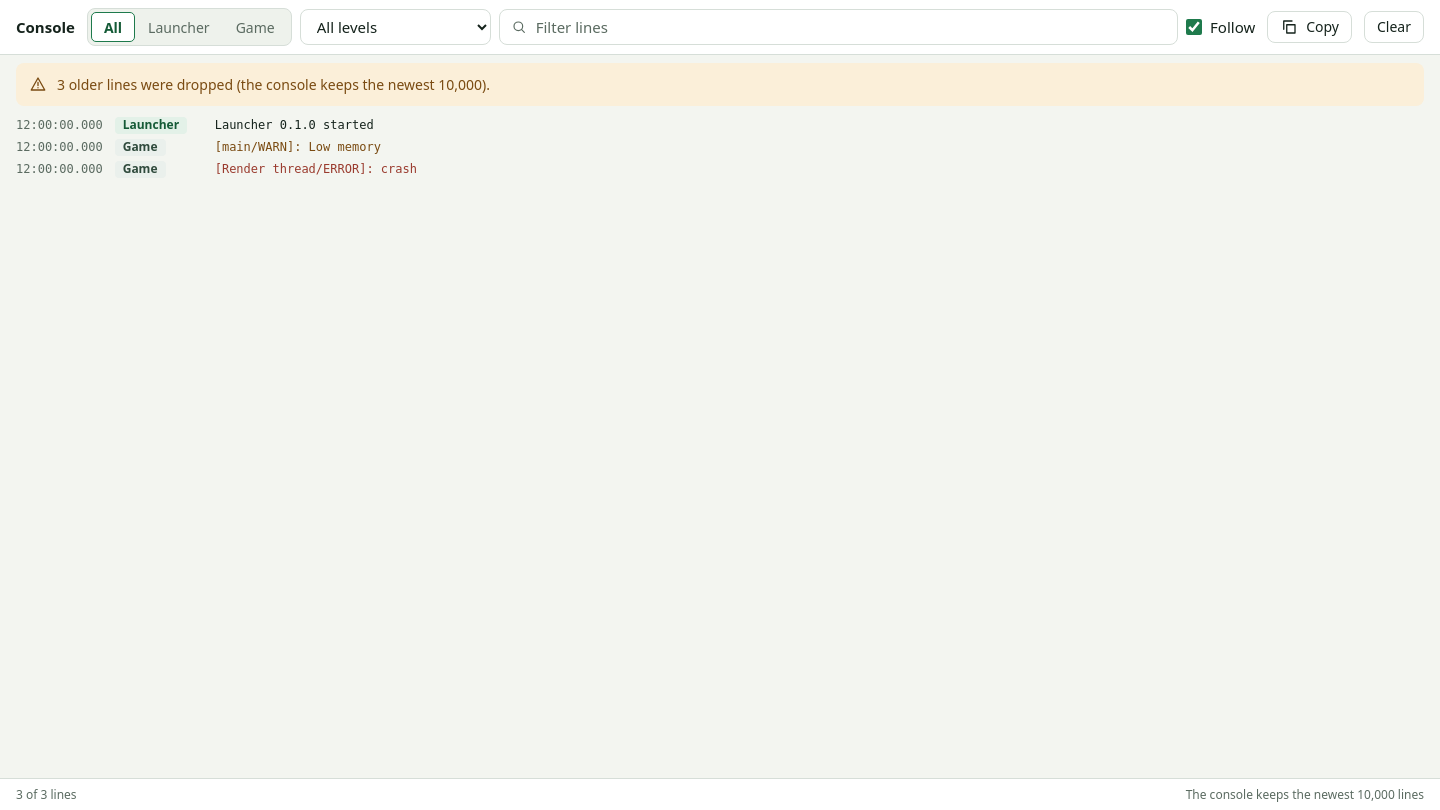
ConsoleApp › polls the journal from where it stopped and filters lines
Expected: the text "Launcher 0.1.0 started" is shown, x1=215 y1=118 x2=374 y2=132
Expected: the text "3 older lines were dropped (the console keeps the newest 10,000)." is shown, x1=57 y1=75 x2=490 y2=94
Step 1. Click the radio button labelled "Game" → (255, 27), box x1=223 y1=12 x2=288 y2=42
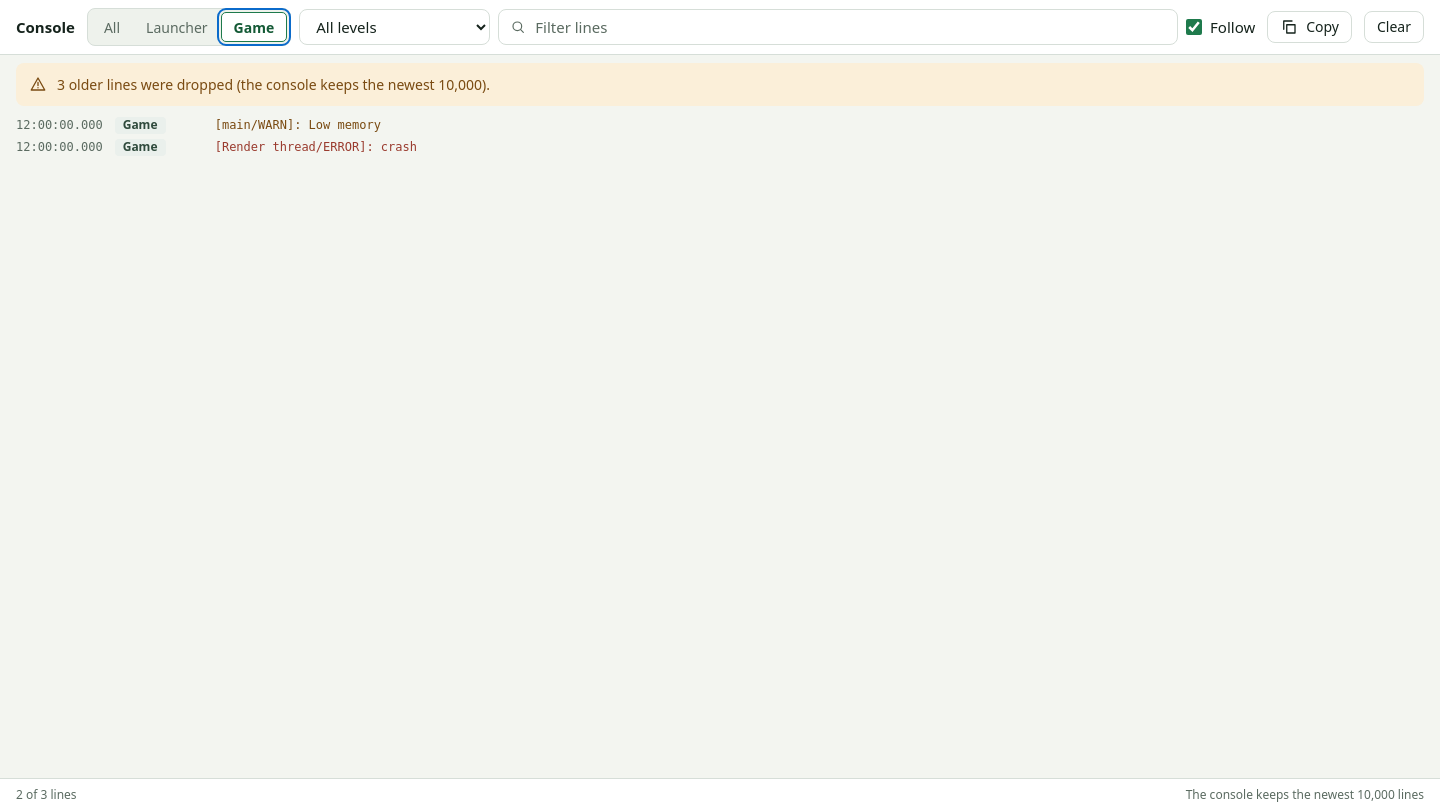
Expected: the text "Launcher 0.1.0 started" is gone
Expected: the text "2 of 3 lines" is shown, x1=16 y1=786 x2=77 y2=804
Step 2. Select "Errors only" in the dropdown named "Show levels" → (395, 27), box x1=299 y1=9 x2=490 y2=45
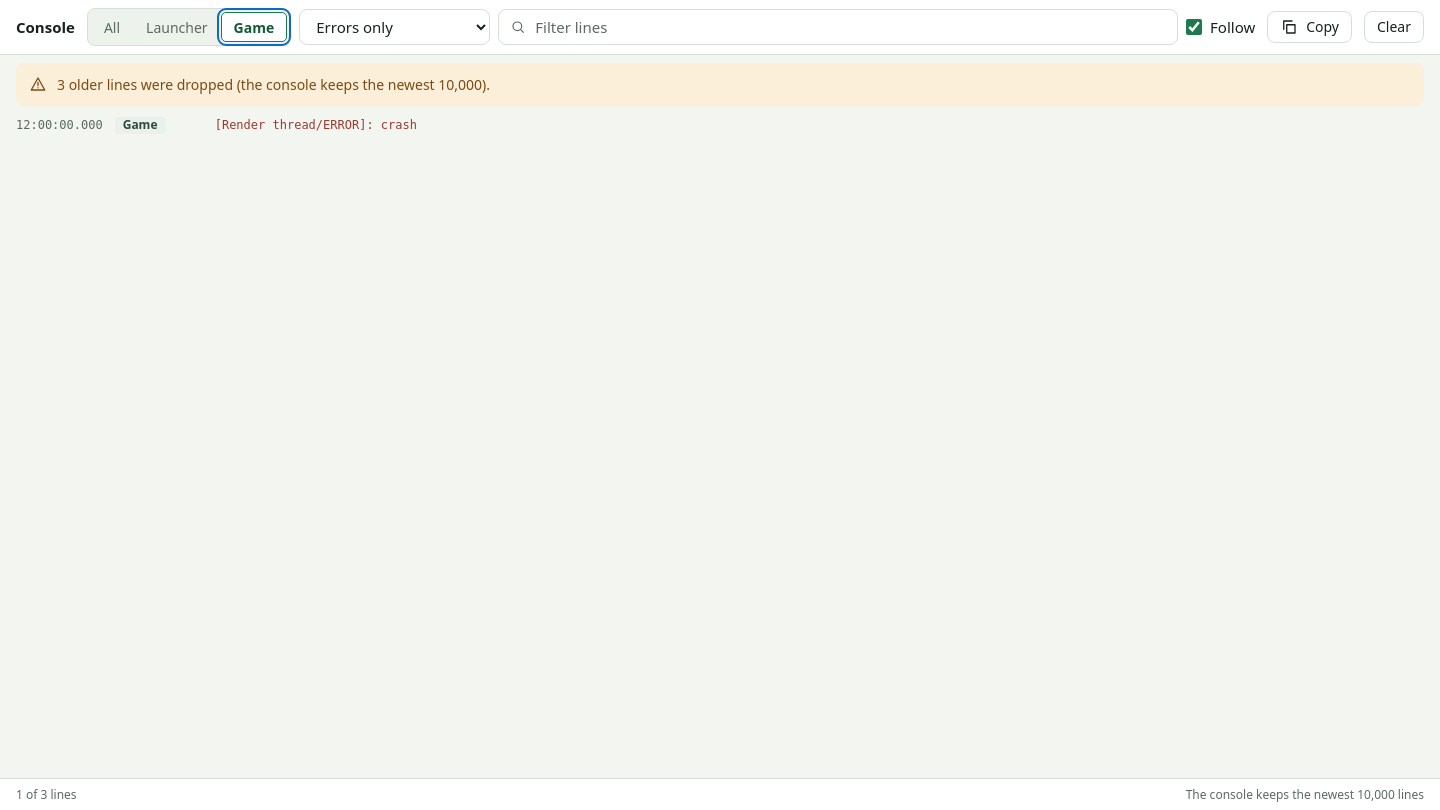
Expected: the text "[Render thread/ERROR]: crash" is shown, x1=215 y1=118 x2=417 y2=132
Expected: the text "[main/WARN]: Low memory" is gone
Step 3. Click the radio button labelled "All" → (112, 27), box x1=91 y1=12 x2=133 y2=42
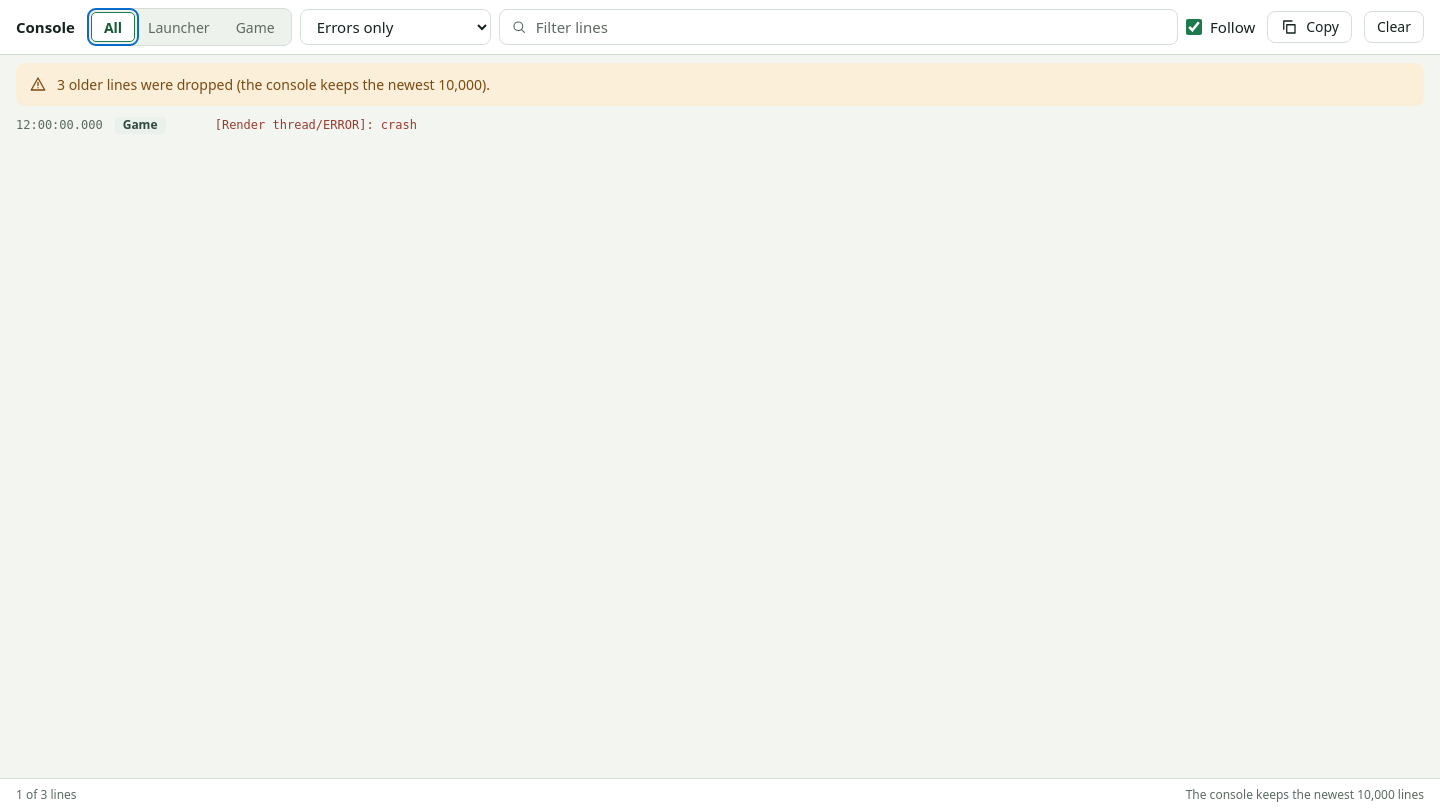
Step 4. Select "All levels" in the dropdown named "Show levels" → (395, 27), box x1=300 y1=9 x2=491 y2=45
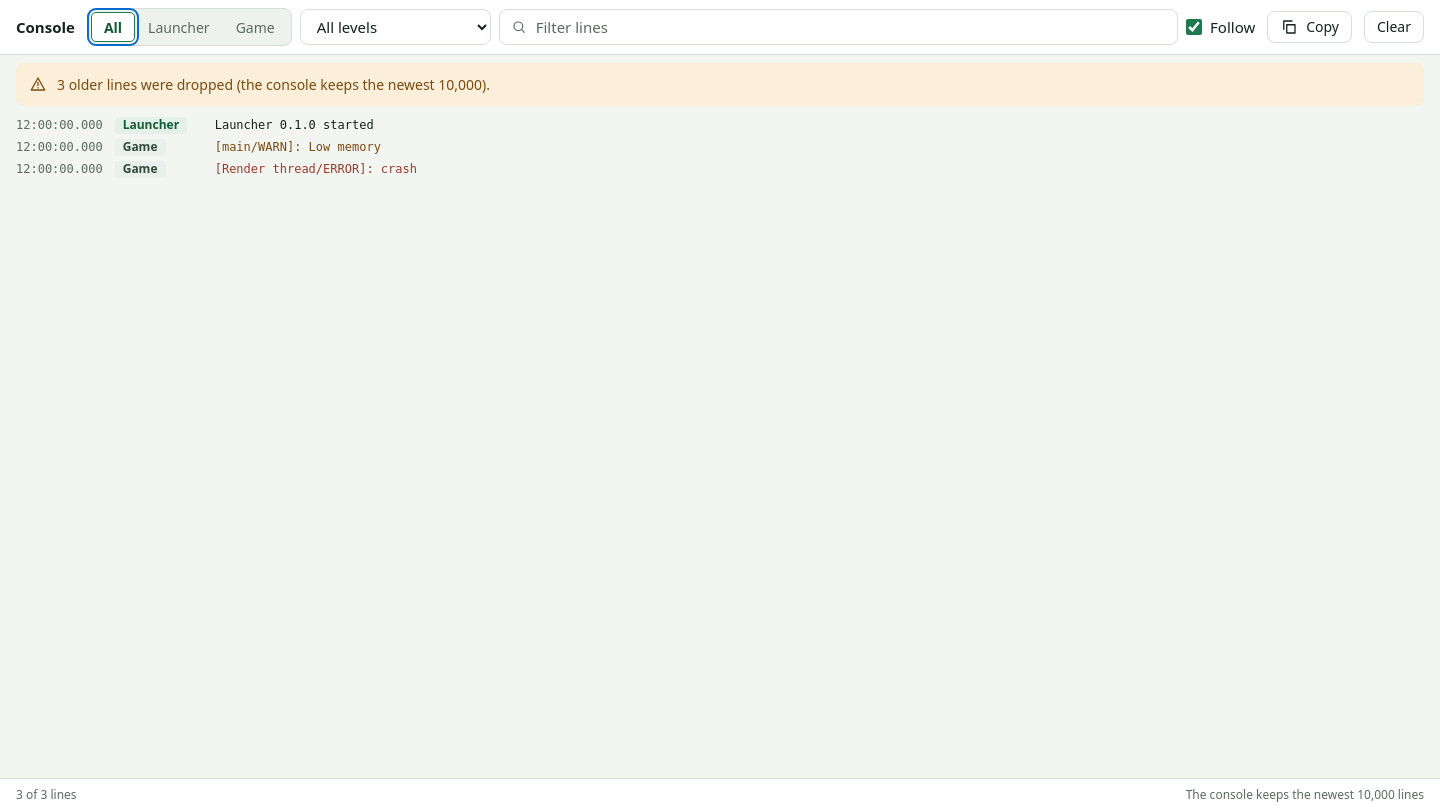
Step 5. Type "memory" into the search field labelled "Filter lines" → (838, 27), box x1=499 y1=9 x2=1178 y2=45
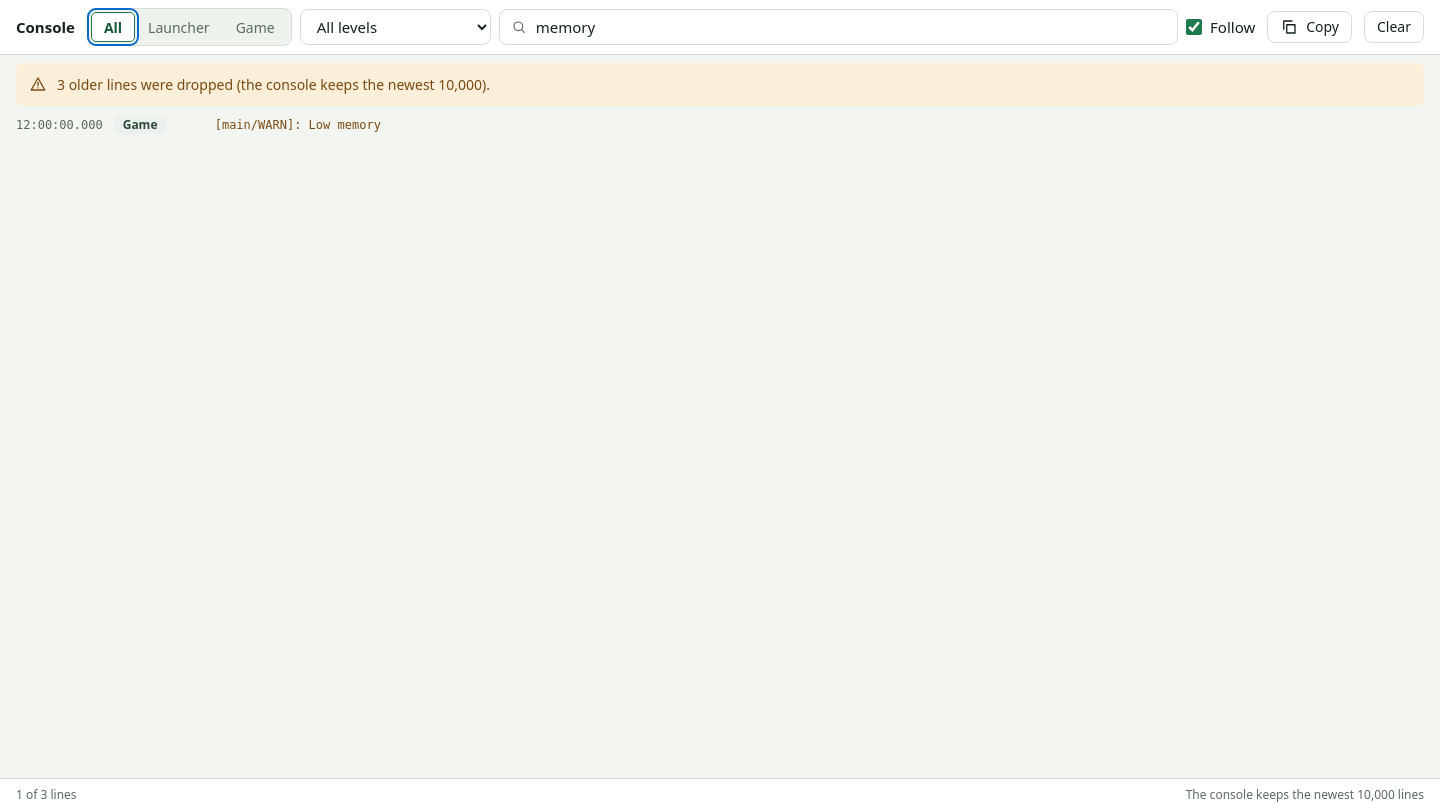
Expected: the text "1 of 3 lines" is shown, x1=16 y1=786 x2=77 y2=804
Step 6. Click the button "Clear" → (1394, 27), box x1=1364 y1=11 x2=1424 y2=43
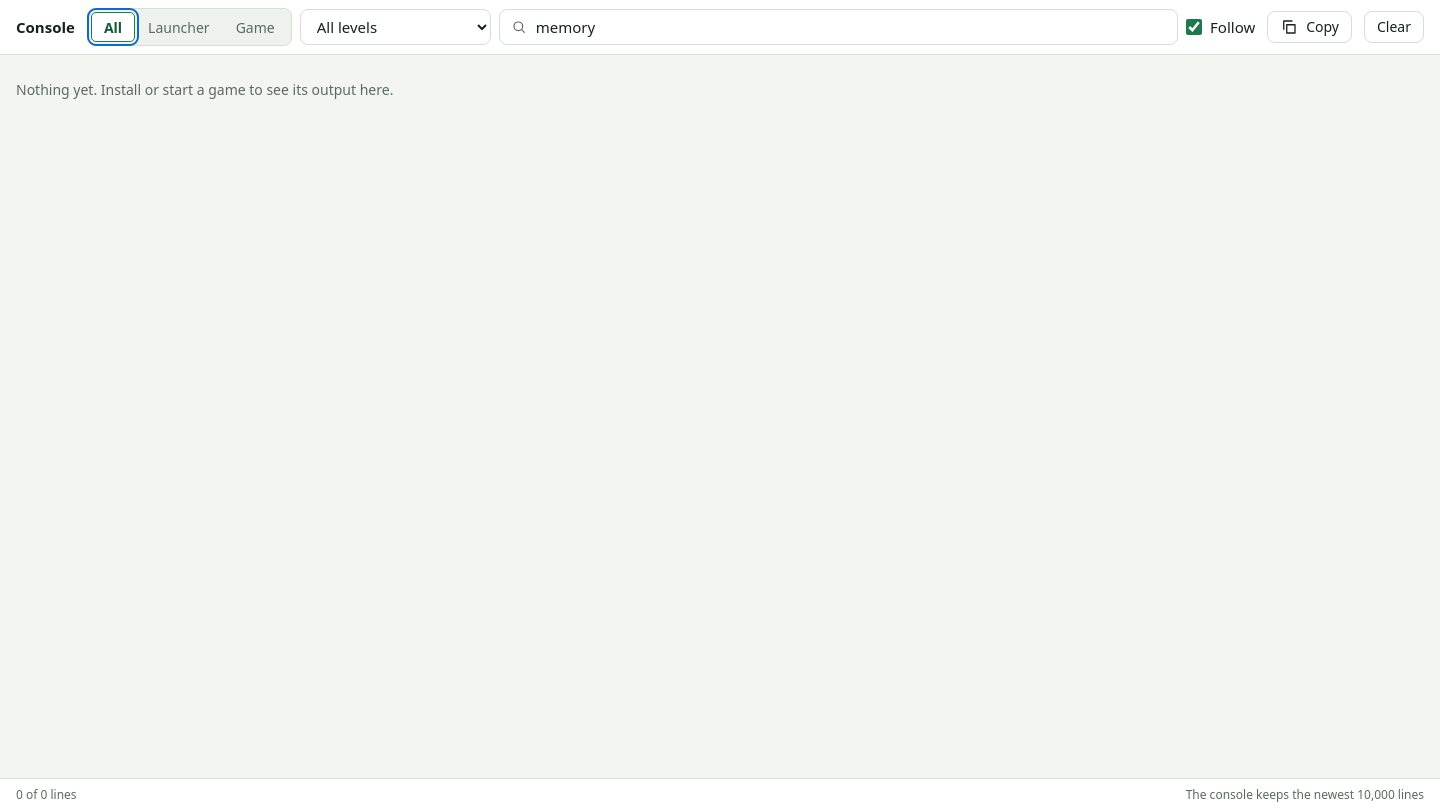
Expected: the text "Nothing yet. Install or start a game to see its output here." is shown, x1=16 y1=80 x2=393 y2=99
